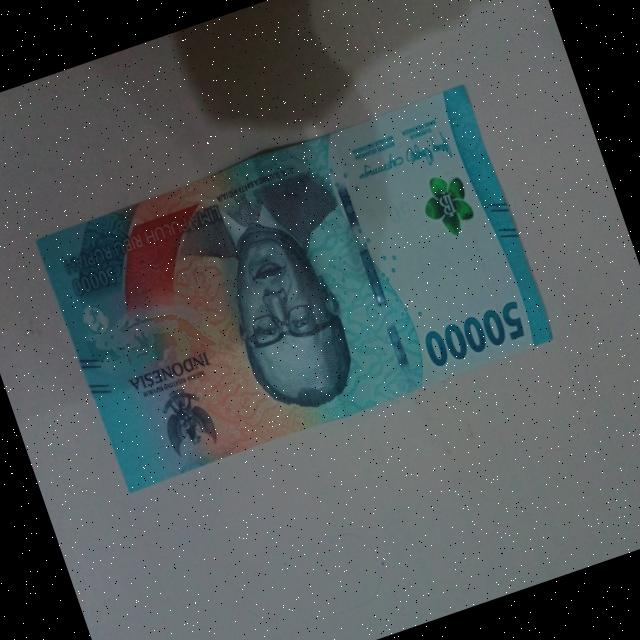50K: (18, 73, 574, 510)
